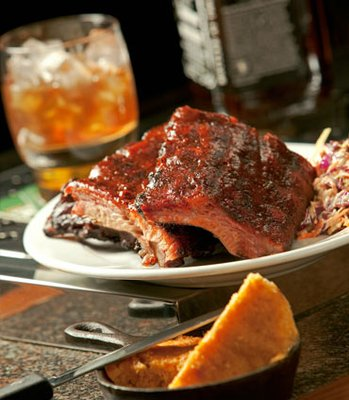pizza: (1, 13, 141, 199)
salad: (38, 308, 220, 392)
sushi: (79, 272, 303, 400), (1, 13, 140, 201)
